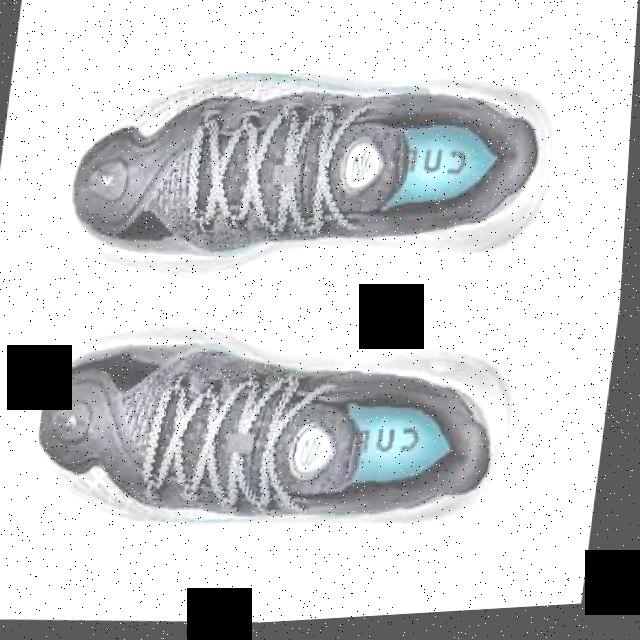shoe: (61, 49, 569, 313), (33, 292, 539, 554)
